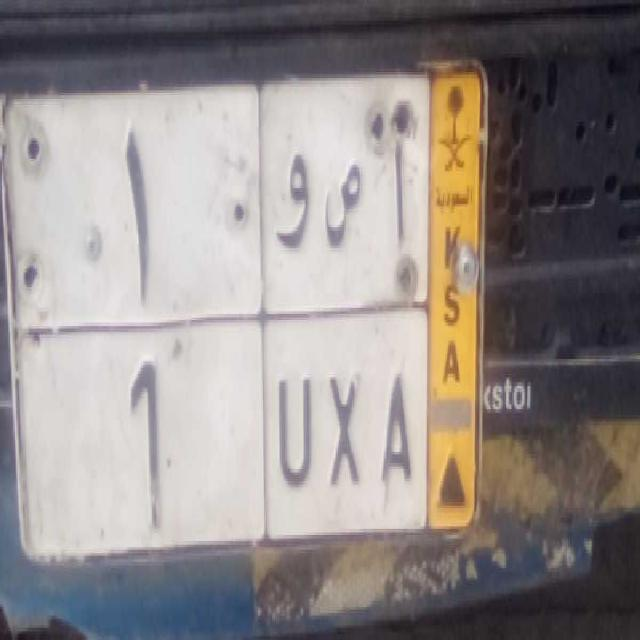license_plate: (14, 318, 432, 550)
